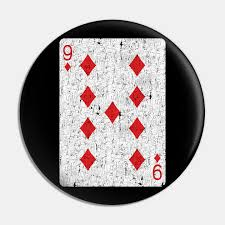nine of diamonds: (59, 38, 164, 186)
